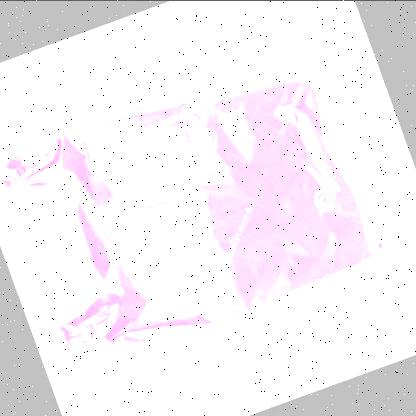Others: (0, 73, 384, 351)
